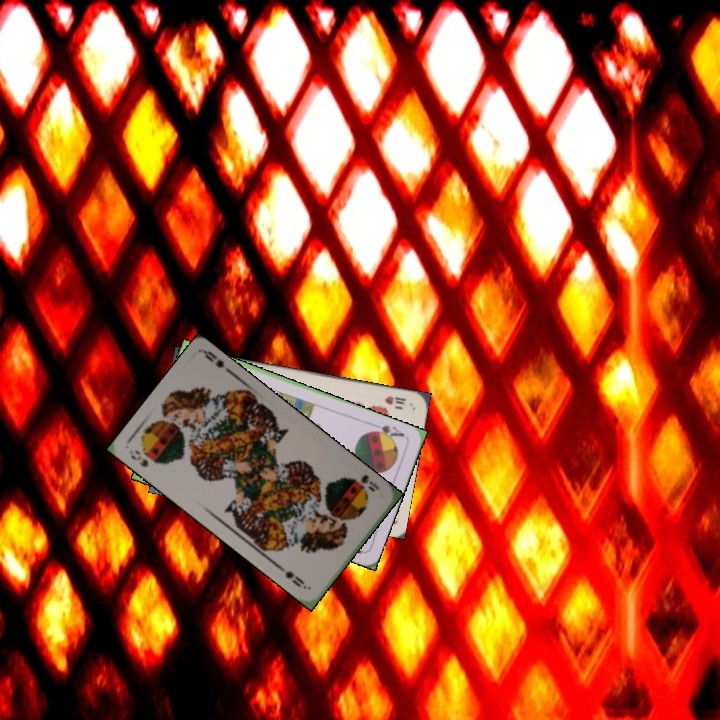H10: (381, 391, 409, 411)
SA: (367, 419, 407, 443)
SO: (357, 470, 382, 494), (126, 446, 151, 470)
